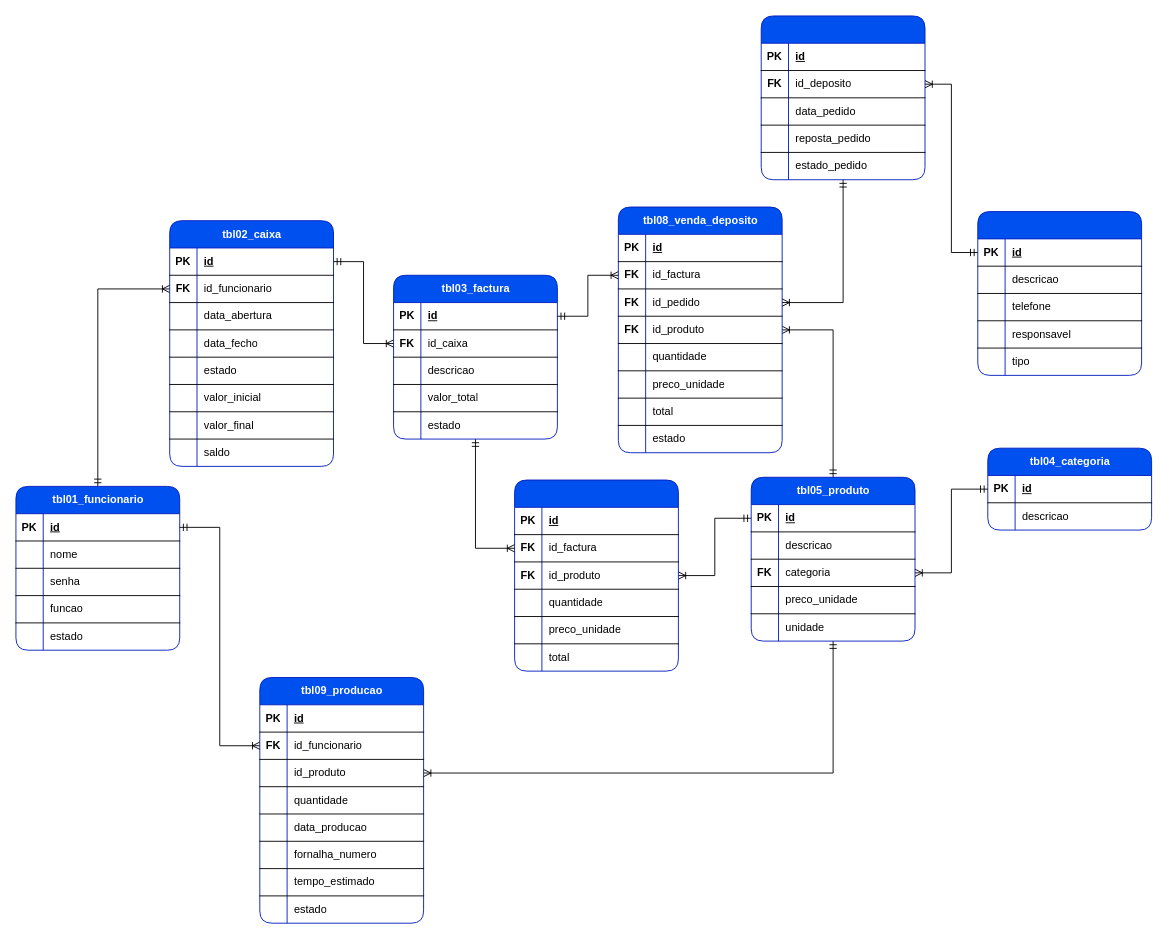
The diagram is 1168 pixels wide and 939 high, and some of its shapes have lost their labels. The shapes that lost their labels are listed below. From the top down, each one's box as (x1, y1, x2, y2) in pixels, then its label:
(760, 15, 925, 180): tbl07_pedido_deposito
(977, 211, 1142, 375): tbl06_deposito
(514, 479, 678, 671): tbl05_venda_local
